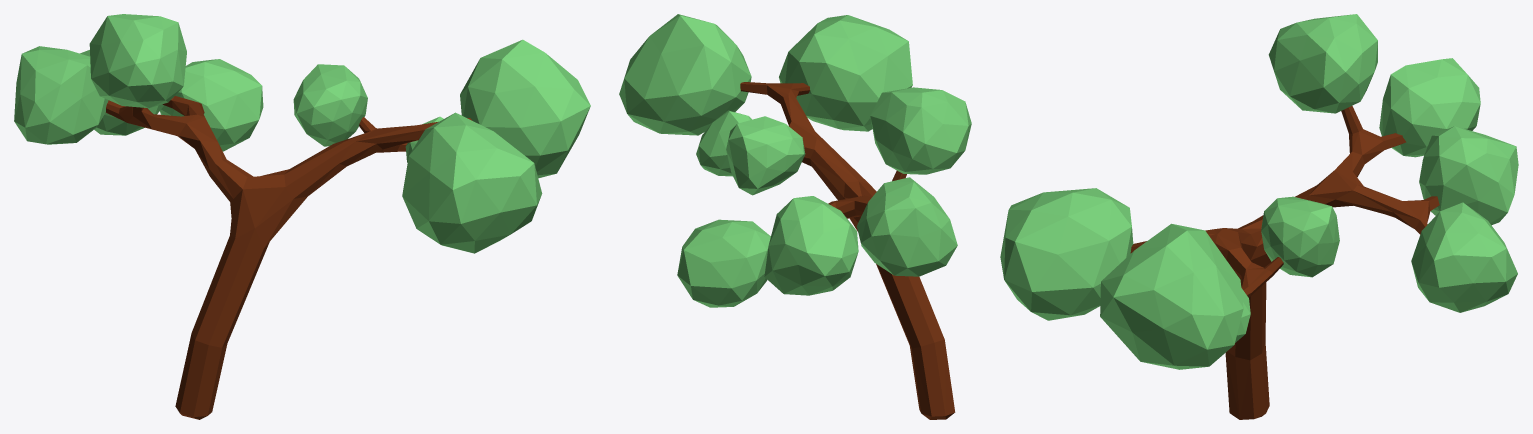
The model's file is Tree1.fbx.
3 views of the same model, side by side, from view 1: azimuth 30°, elevation 25°; view 2: azimuth 150°, elevation 25°; view 3: azimuth 270°, elevation 25° (orthographic). The views are drawn at different scales.
Visible parts, largest first — view 1: Icosphere.006, Cube; view 2: Icosphere.006, Cube; view 3: Icosphere.006, Cube.
Part boxes in pixels (x1=…): Icosphere.006: x1=14, y1=14, x2=590, y2=253; Cube: x1=106, y1=96, x2=472, y2=419; Icosphere.006: x1=619, y1=14, x2=971, y2=307; Cube: x1=740, y1=82, x2=955, y2=419; Icosphere.006: x1=1000, y1=14, x2=1518, y2=369; Cube: x1=1130, y1=106, x2=1439, y2=419.
Bounding box in the file's own units: 690 × 548 × 665.
